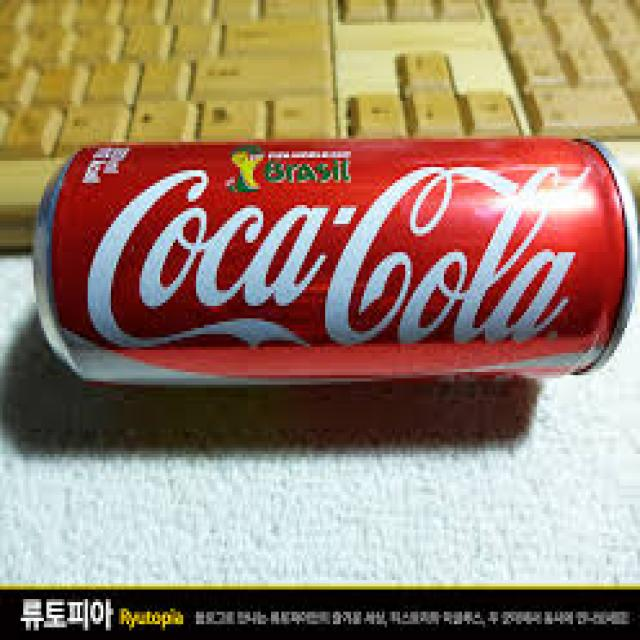Coca-Cola: (29, 111, 640, 396)
